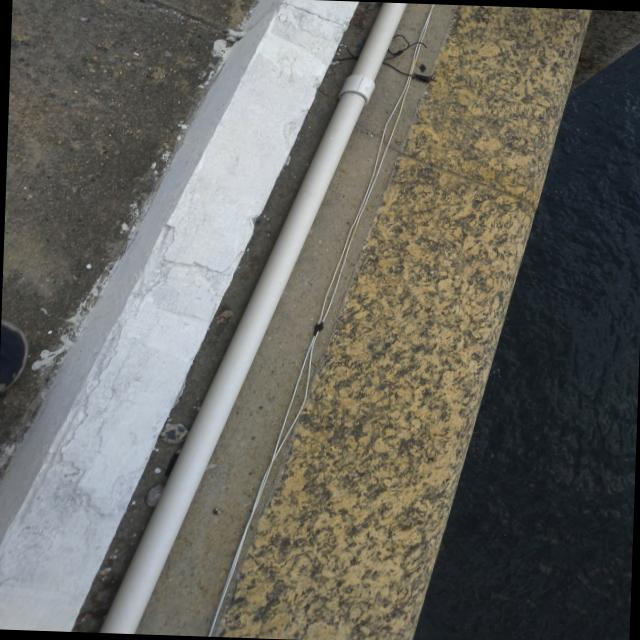gas: (95, 2, 408, 634)
